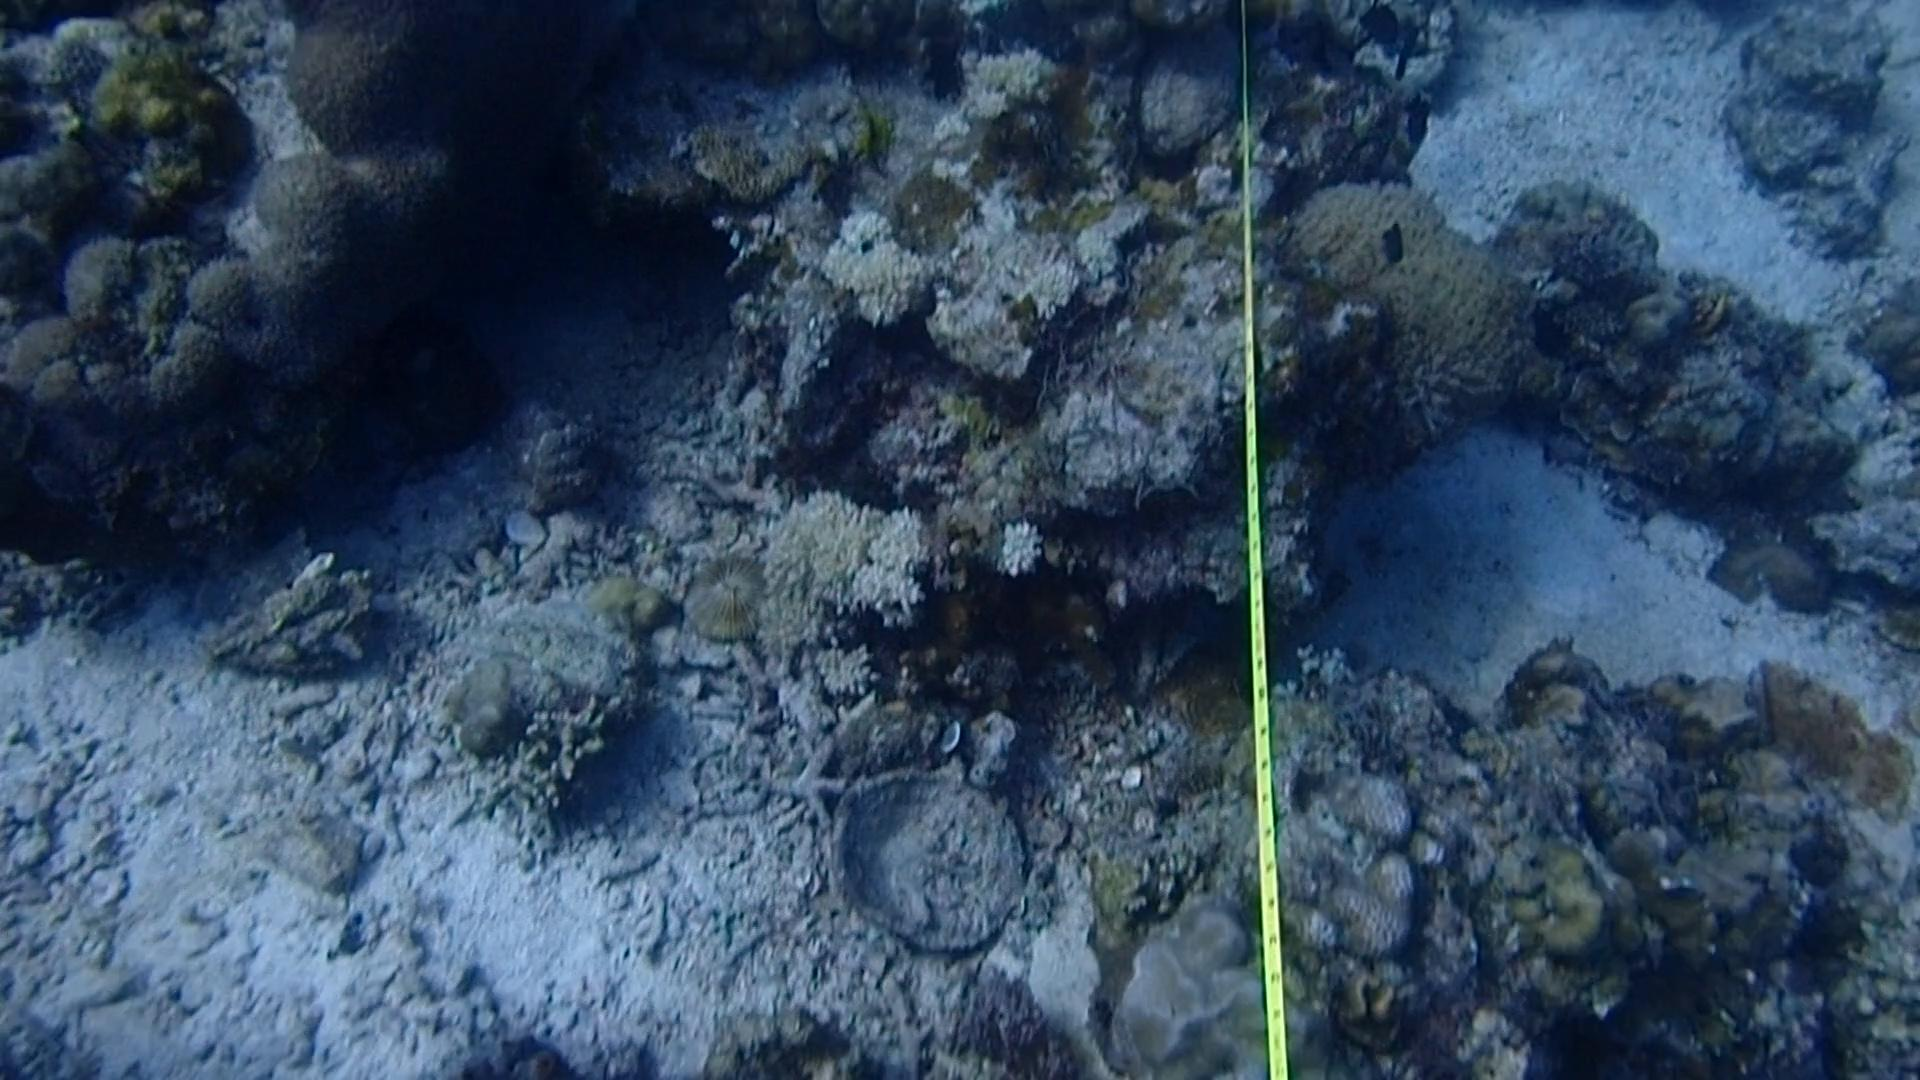Dark Fish: (1364, 0, 1441, 84), (1364, 206, 1424, 285), (1389, 94, 1453, 149)
